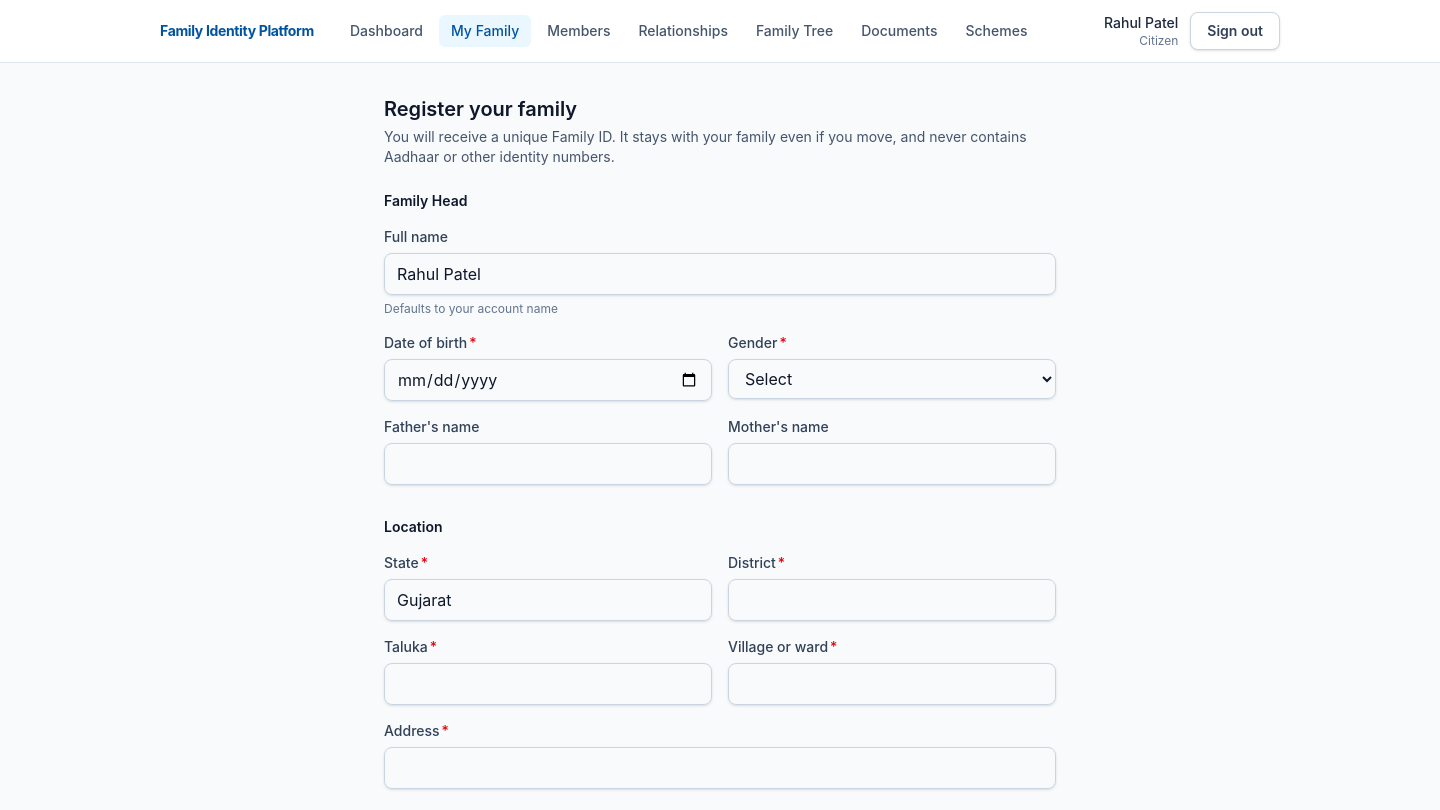
Test: FamilyRegistrationPage › maps nested API validation errors onto the right inputs
This screenshot has width=1440, height=810.
Check: the field labelled "Full name" is shown, box [384,253,1056,295]
Type "1985-04-12" into the date field labelled "Date of birth*".
click(548, 380); type("1985-04-12")  # box [384,359,712,401]
Select "Male" in the dropdown labelled "Gender*" at (892, 379), box [728,359,1056,399]
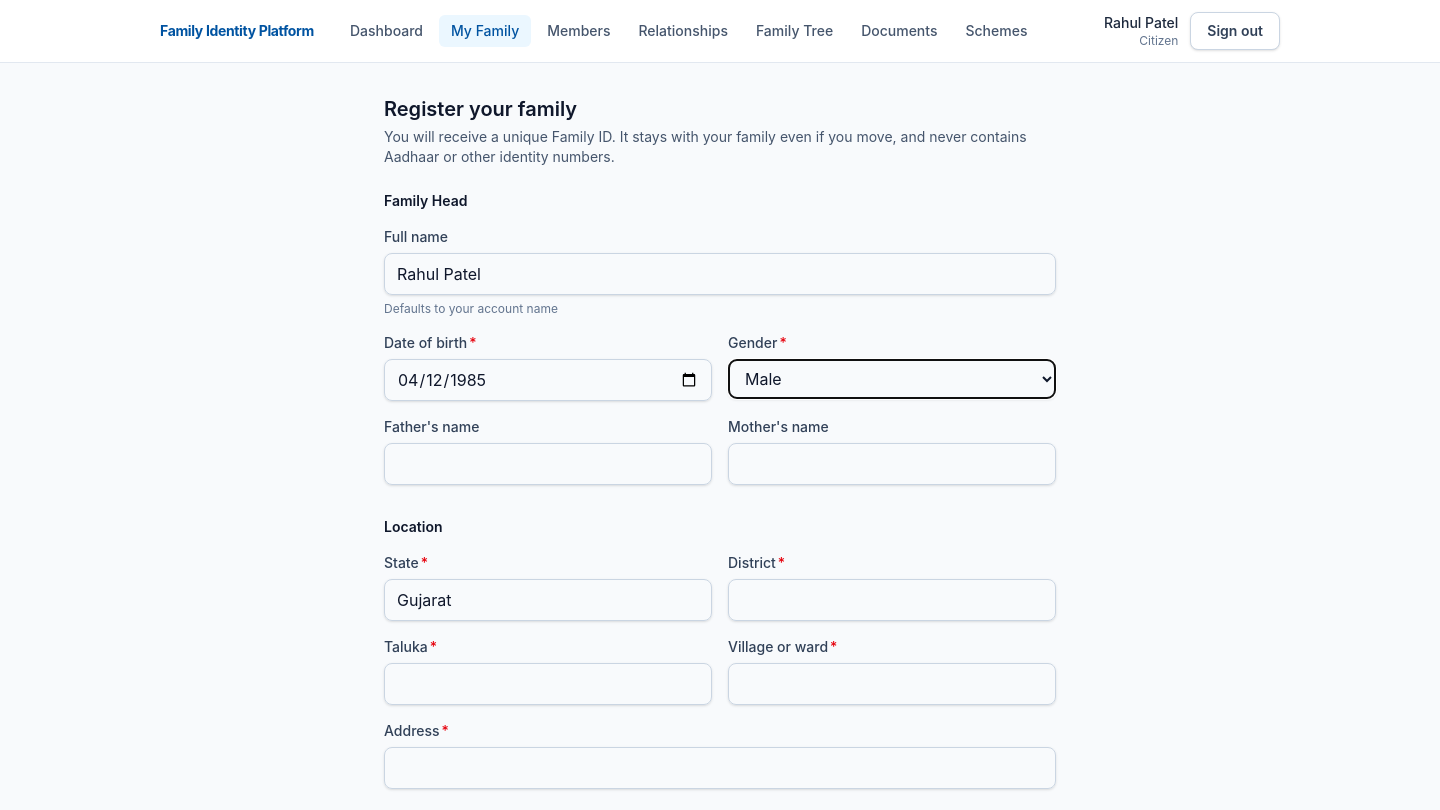
Type "Ahmedabad" into the field labelled "District*".
click(892, 600); type("Ahmedabad")  # box [728,579,1056,621]
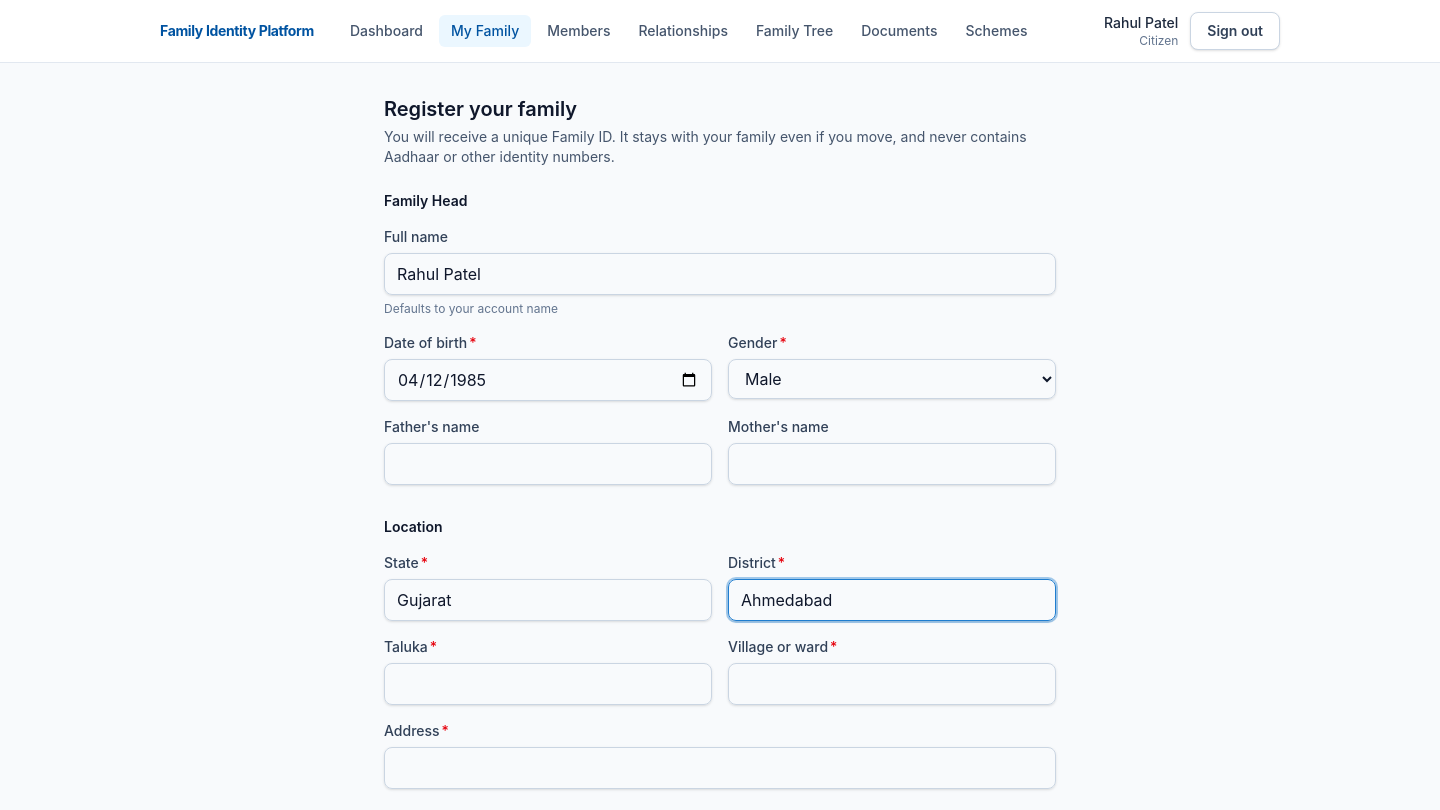
Type "Daskroi" into the field labelled "Taluka*".
click(548, 684); type("Daskroi")  # box [384,663,712,705]
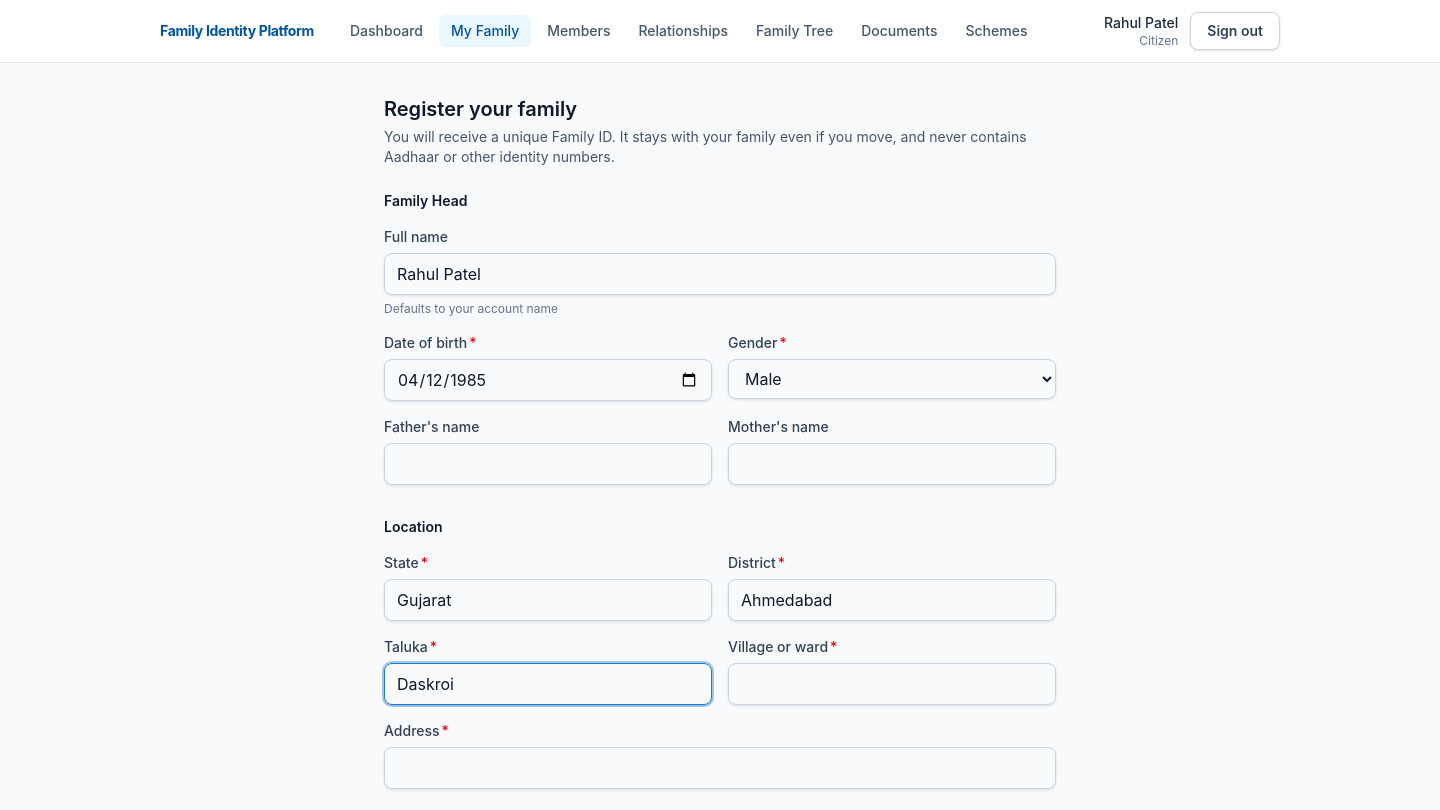
Type "Example Village" into the field labelled "Village or ward*".
click(892, 684); type("Example Village")  # box [728,663,1056,705]
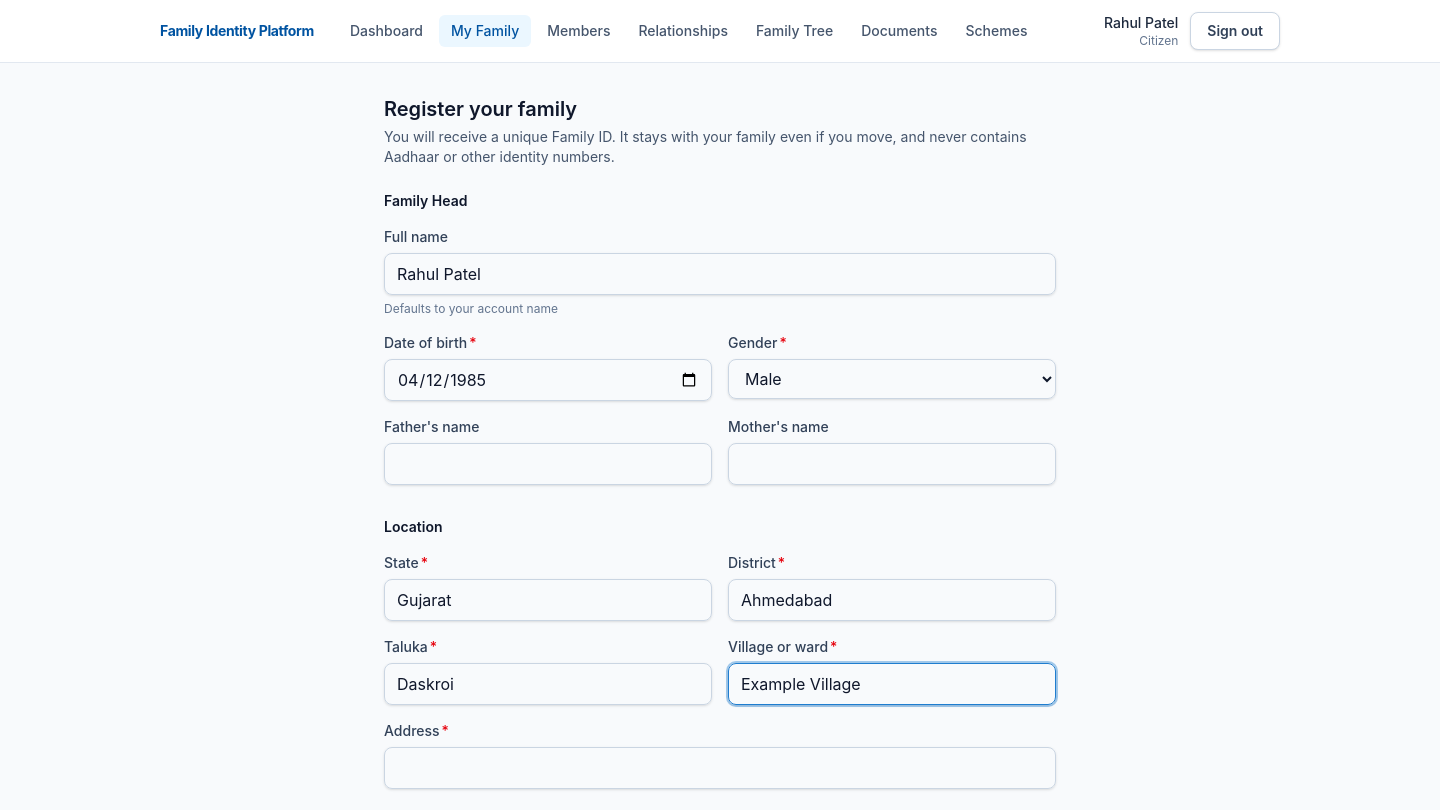
Type "12 Example Road" into the field labelled "Address*".
click(720, 768); type("12 Example Road")  # box [384,747,1056,789]
(page scrolled)
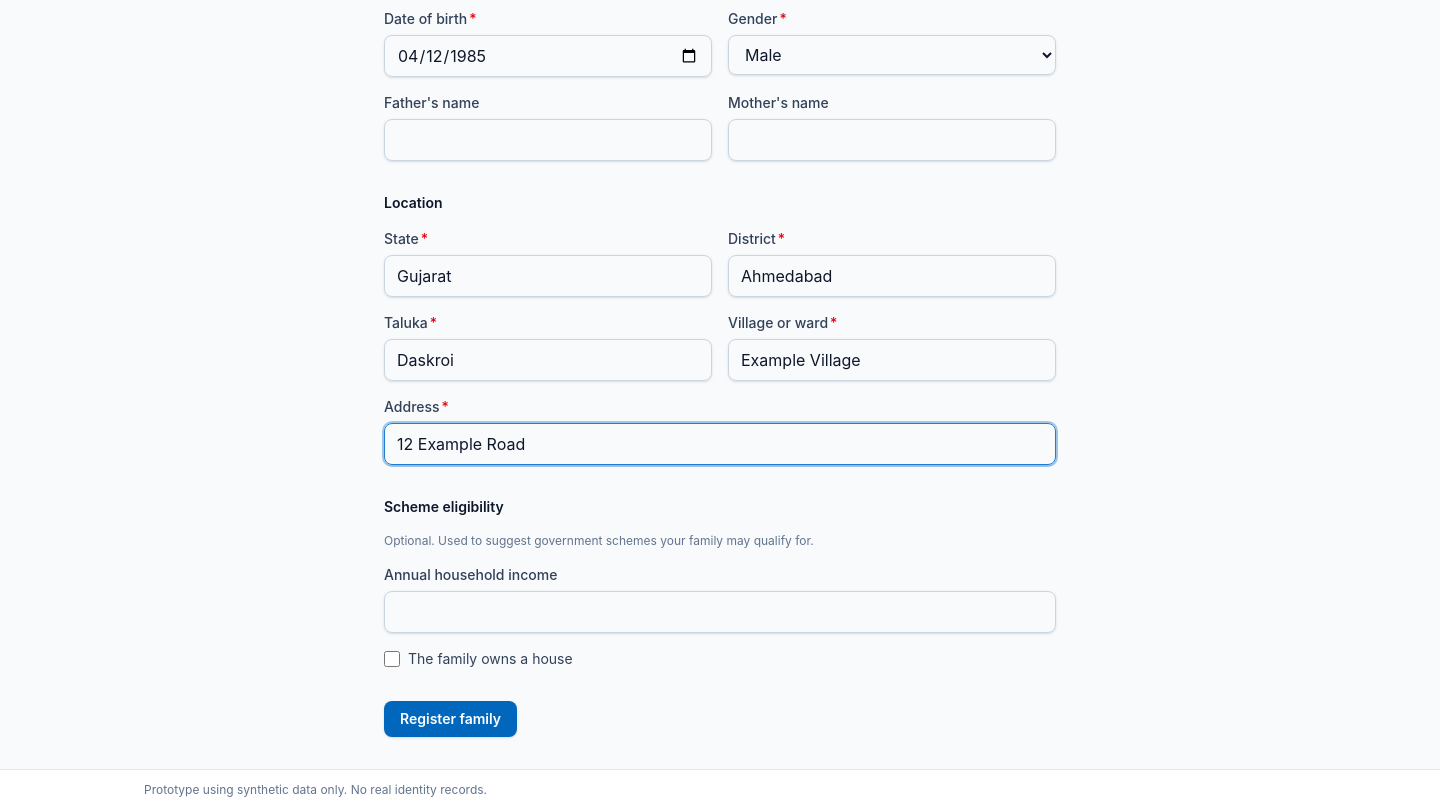
Click the button "Register family".
click(450, 719)  # box [384,701,517,737]
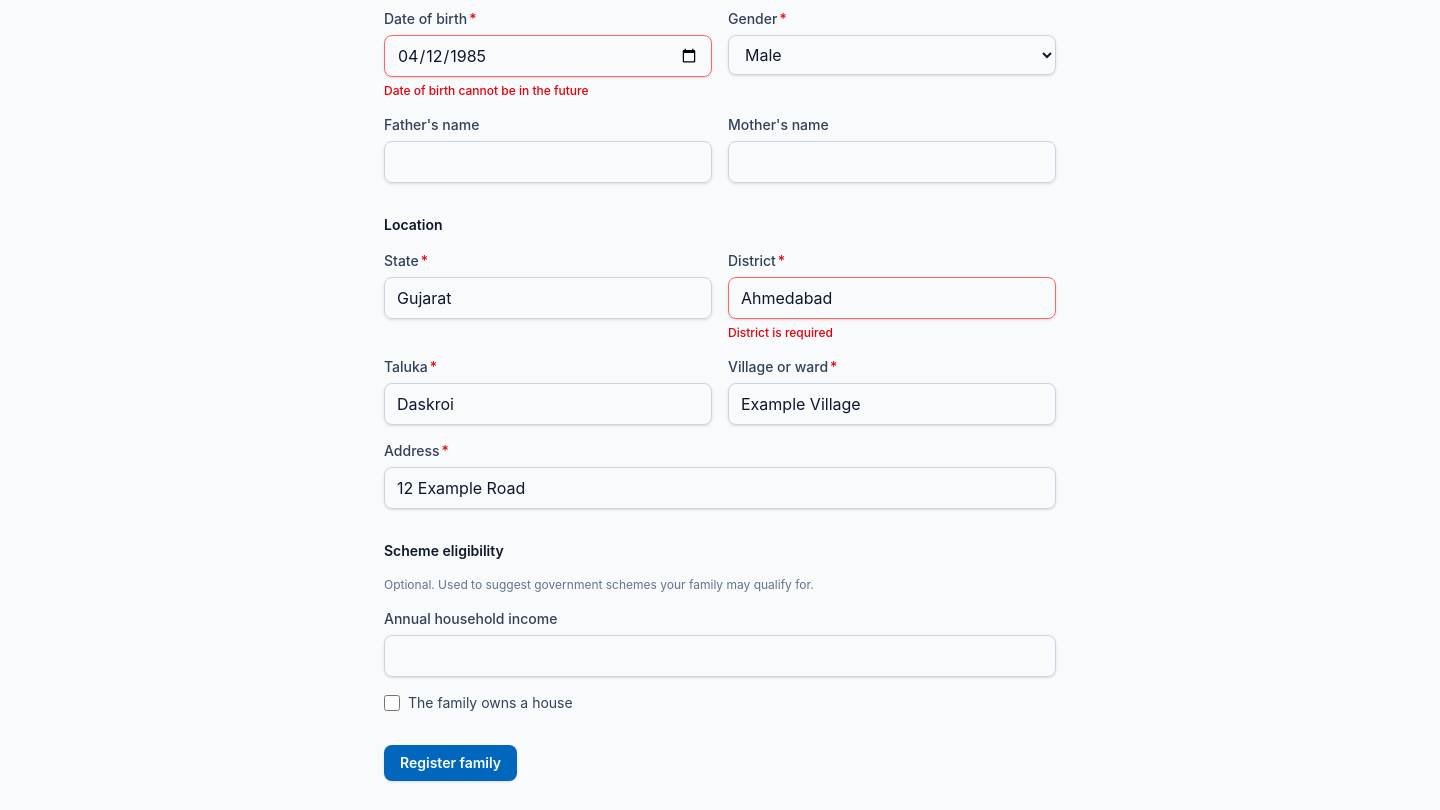
Check: the text "Date of birth cannot be in the future" is shown, box [384,83,588,98]
Check: the text "District is required" is shown, box [728,325,833,340]
